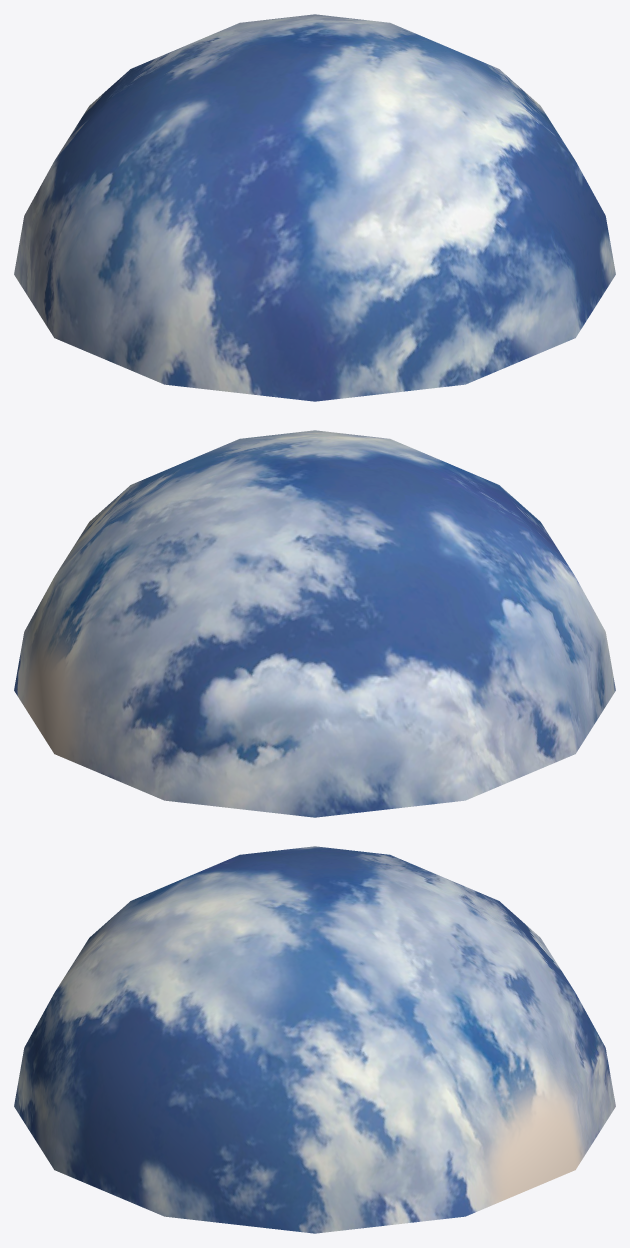
The model's file is skydome.fbx.
The picture shows the model from 3 angles, top to bottom: view 1: azimuth 30°, elevation 25°; view 2: azimuth 150°, elevation 25°; view 3: azimuth 270°, elevation 25°; orthographic projection.
Visible parts, largest first — view 1: skydome; view 2: skydome; view 3: skydome.
Boxes of the visible parts, x1,y1,x2,y2 form: skydome: (14,14,615,401); skydome: (14,430,615,817); skydome: (14,846,615,1233).
Size of the model in its own units: 33.95 by 14.12 by 33.95.
